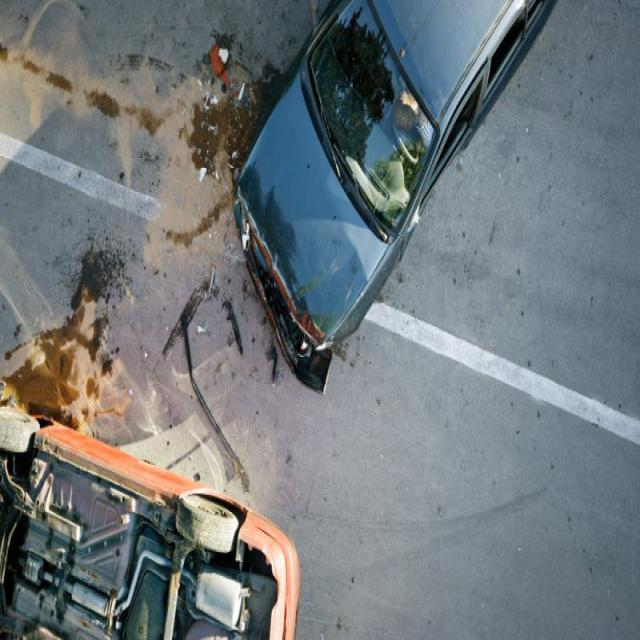Accident: (232, 0, 551, 393), (0, 399, 304, 640)
